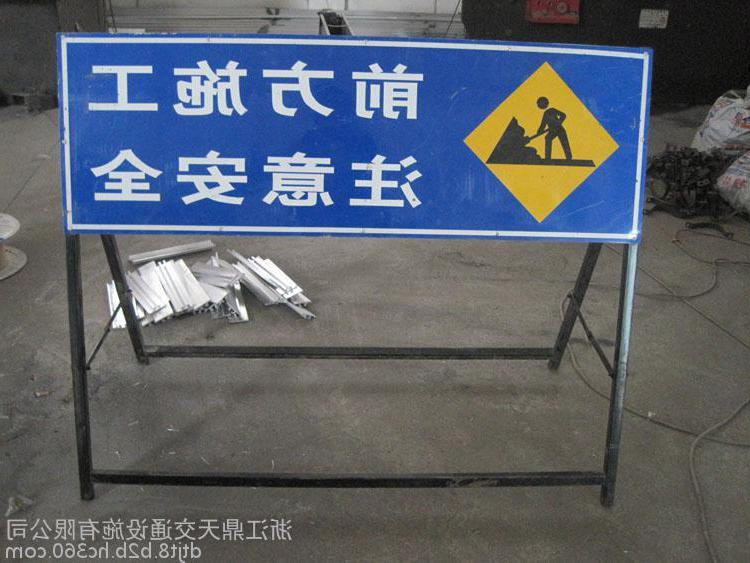sign: (62, 36, 655, 243)
